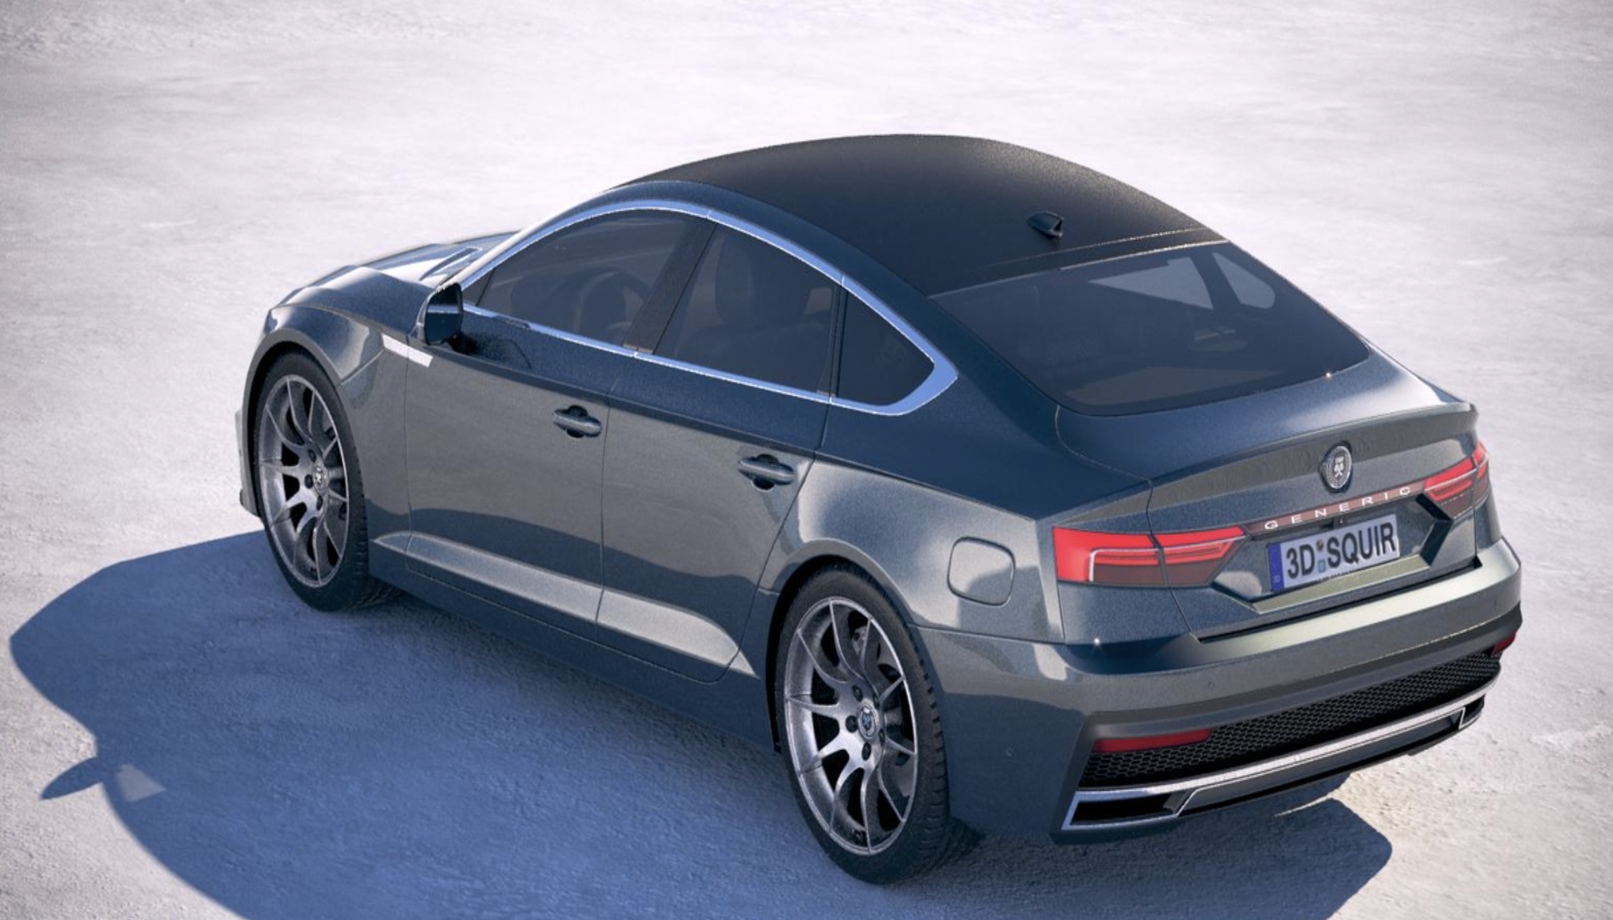hatch: (942, 532, 1020, 615)
